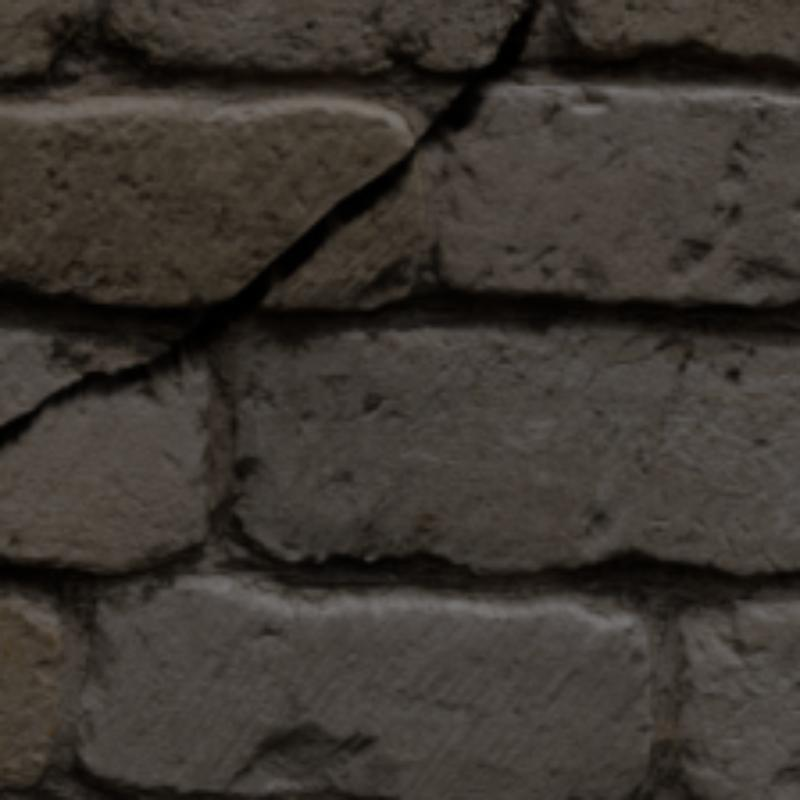crack: (0, 0, 539, 446)
